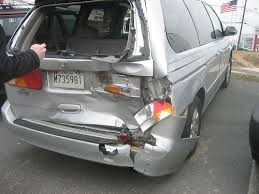Broken-glass: (11, 4, 145, 56), (135, 76, 174, 123)
Dent: (93, 72, 171, 167), (37, 90, 92, 123)
